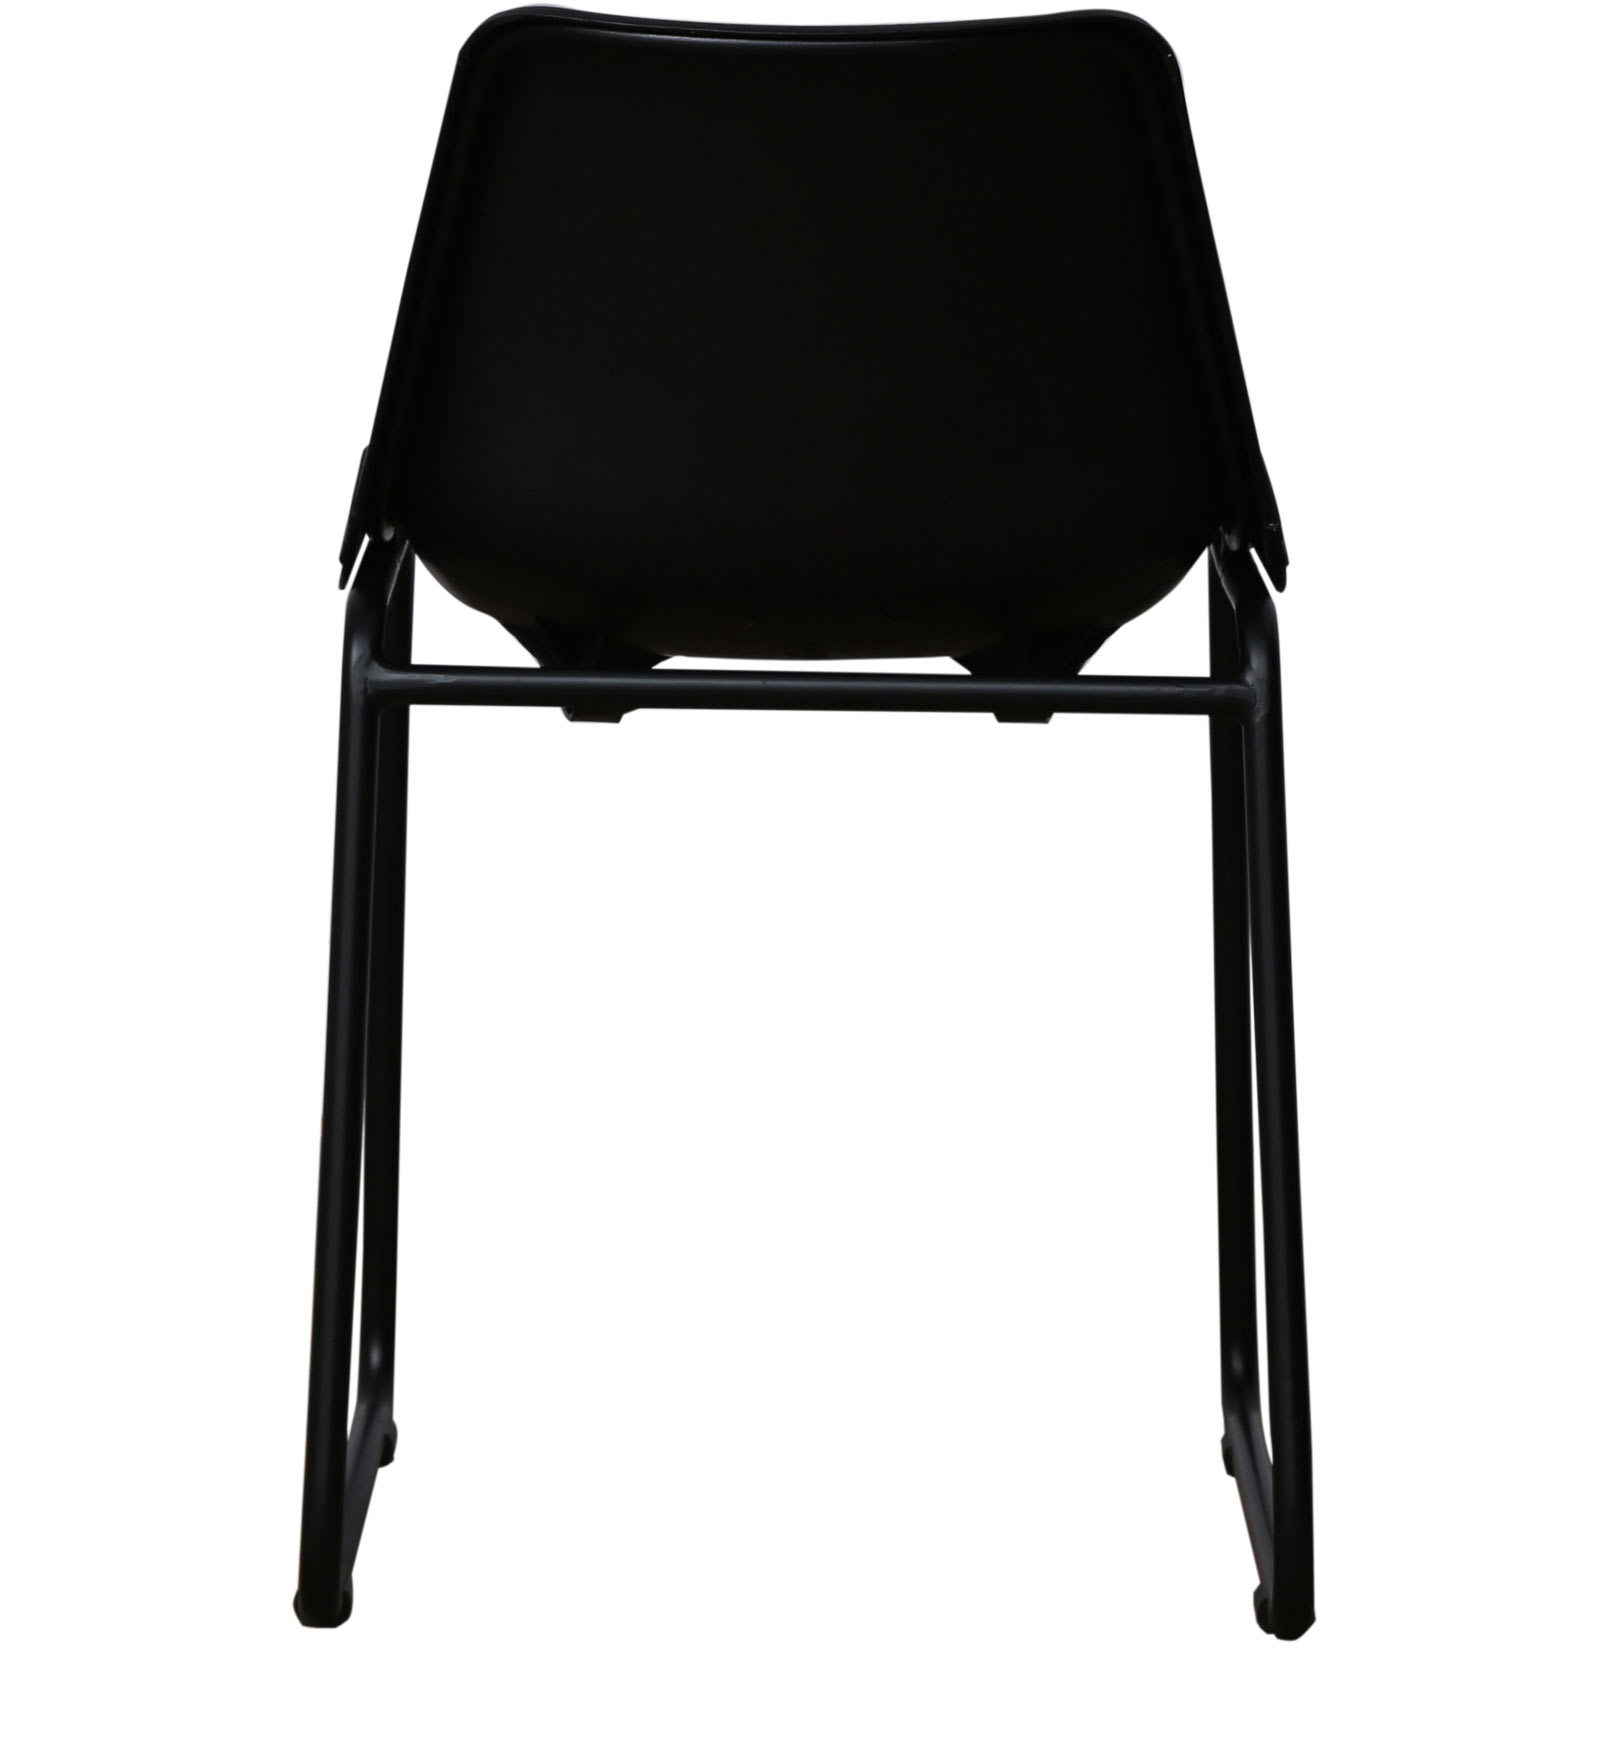Medina Black Color Leather Accent Chair by Bohemiana: (297, 9, 1336, 1643)
